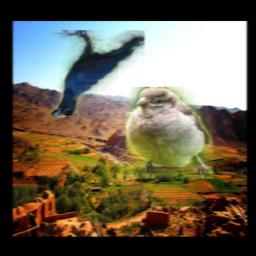Crow: (51, 31, 144, 118)
Sparrow: (125, 88, 212, 179)
